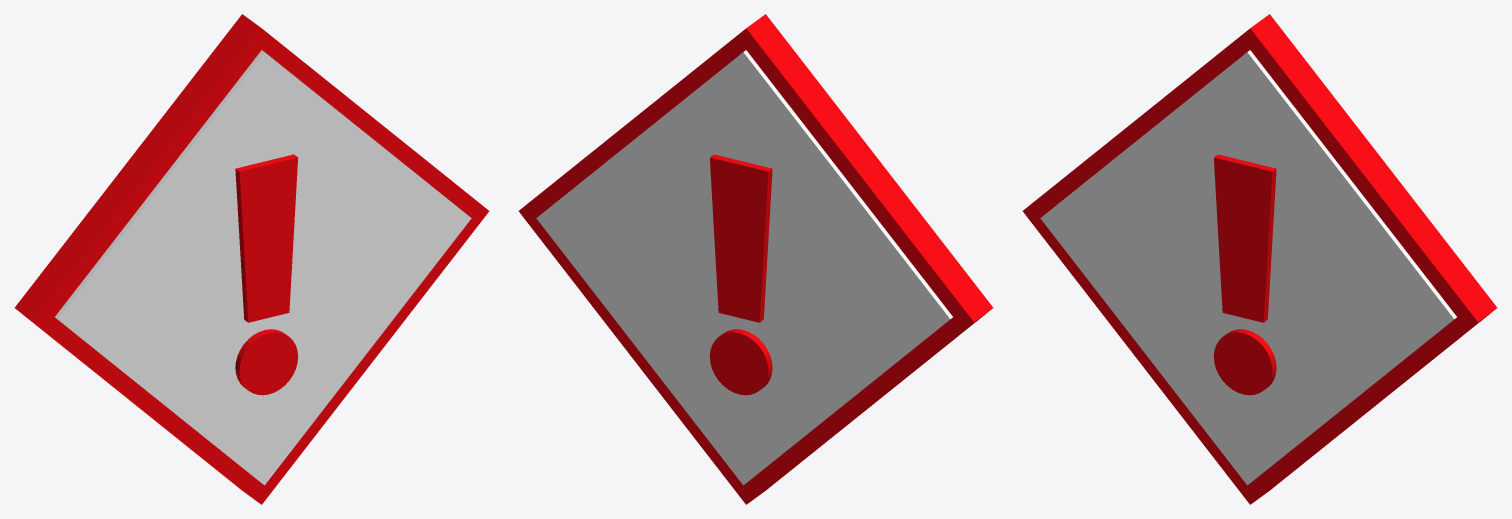
File: avatar_error.glb
The picture shows the model from 3 angles, left to right: view 1: azimuth 30°, elevation 25°; view 2: azimuth 150°, elevation 25°; view 3: azimuth 330°, elevation 25°; orthographic projection.
Visible parts, largest first — view 1: ExclamationMarkInner, ExclamationMarkOuter, ExclamationMarkI, ExclamationMarkDot; view 2: ExclamationMarkInner, ExclamationMarkOuter, ExclamationMarkI, ExclamationMarkDot; view 3: ExclamationMarkInner, ExclamationMarkOuter, ExclamationMarkI, ExclamationMarkDot.
Part boxes in pixels (x1=…): ExclamationMarkInner: x1=55, y1=50, x2=471, y2=485; ExclamationMarkOuter: x1=14, y1=14, x2=489, y2=504; ExclamationMarkI: x1=235, y1=154, x2=298, y2=322; ExclamationMarkDot: x1=235, y1=329, x2=298, y2=395; ExclamationMarkInner: x1=536, y1=50, x2=952, y2=485; ExclamationMarkOuter: x1=518, y1=14, x2=993, y2=504; ExclamationMarkI: x1=709, y1=154, x2=772, y2=322; ExclamationMarkDot: x1=709, y1=329, x2=772, y2=395; ExclamationMarkInner: x1=1040, y1=50, x2=1456, y2=485; ExclamationMarkOuter: x1=1022, y1=14, x2=1497, y2=504; ExclamationMarkI: x1=1213, y1=154, x2=1276, y2=322; ExclamationMarkDot: x1=1213, y1=329, x2=1276, y2=395.
Bounding box in the file's own units: 3.11 × 3.11 × 0.4.
